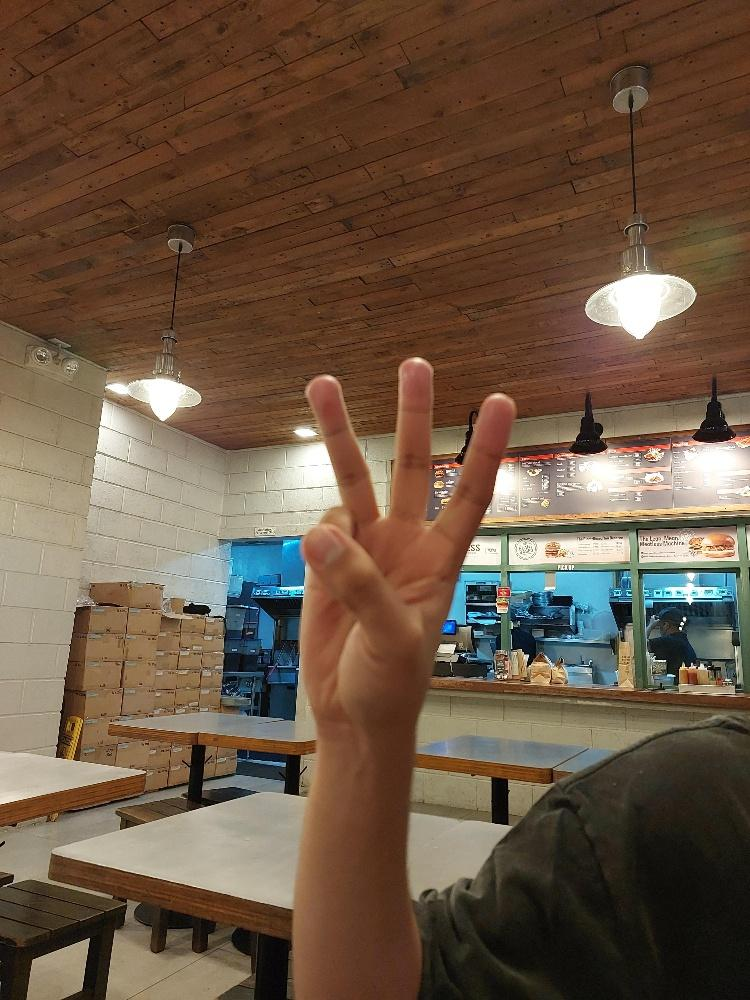w: (293, 353, 517, 726)
